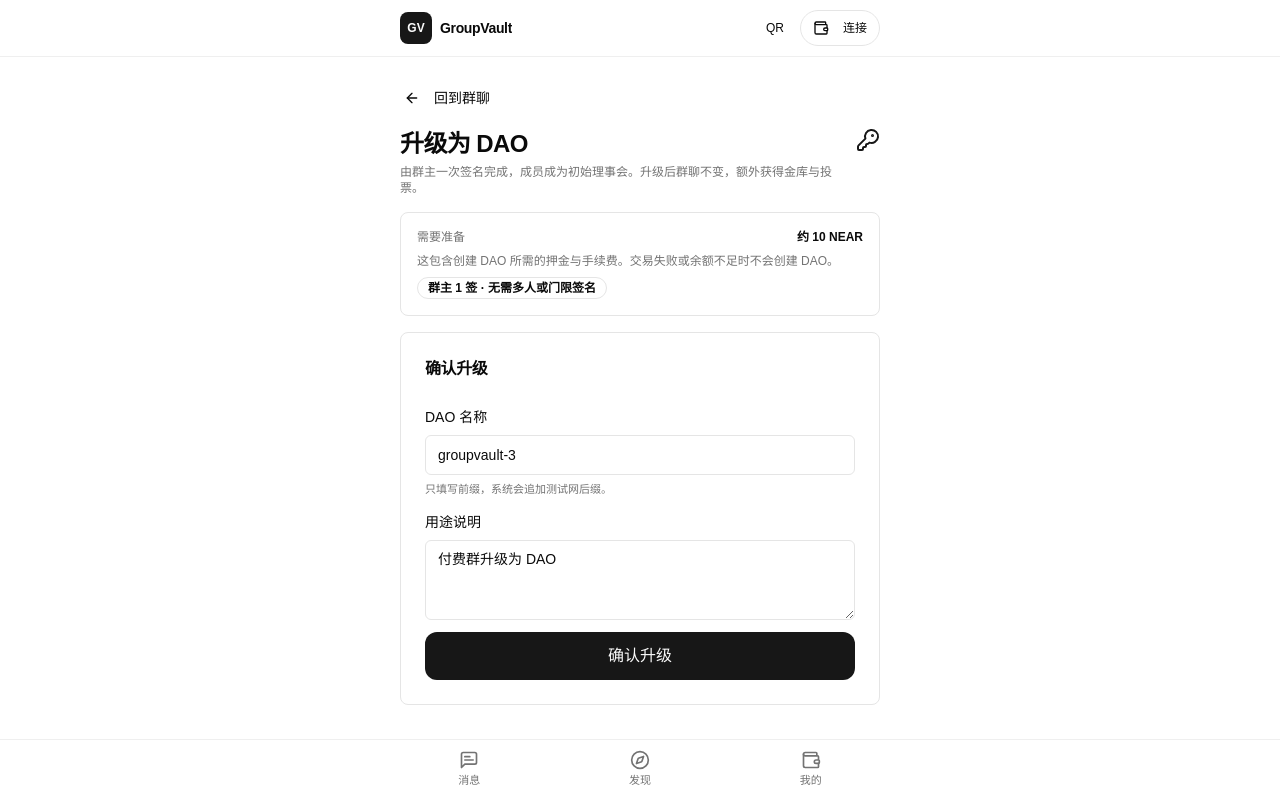
it: Convert screen › rejects invalid DAO names before the wallet
The image size is (1280, 800).
Replace the text in the field labelled "DAO 名称" with "Bad.Name" at [640, 455], box [425,435,855,475]
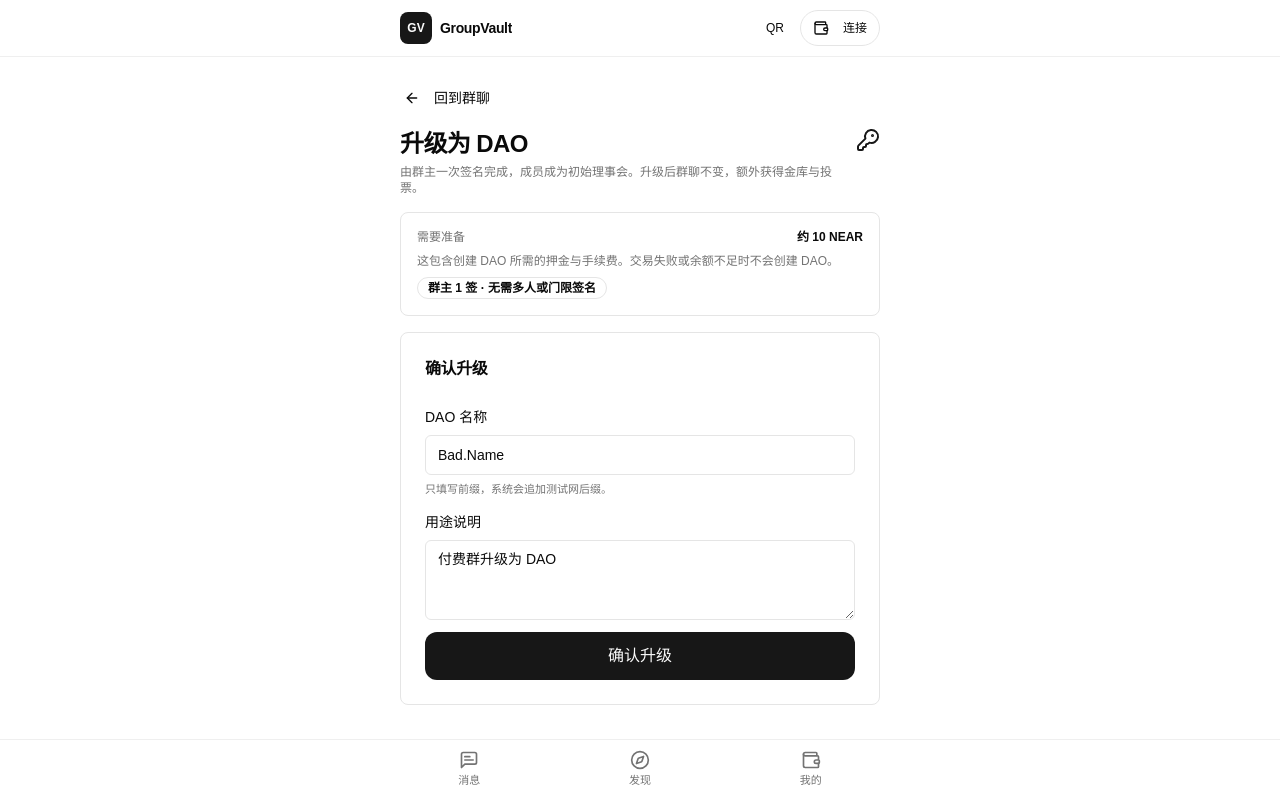
Click the button "确认升级" at [640, 656], box [425,632,855,680]
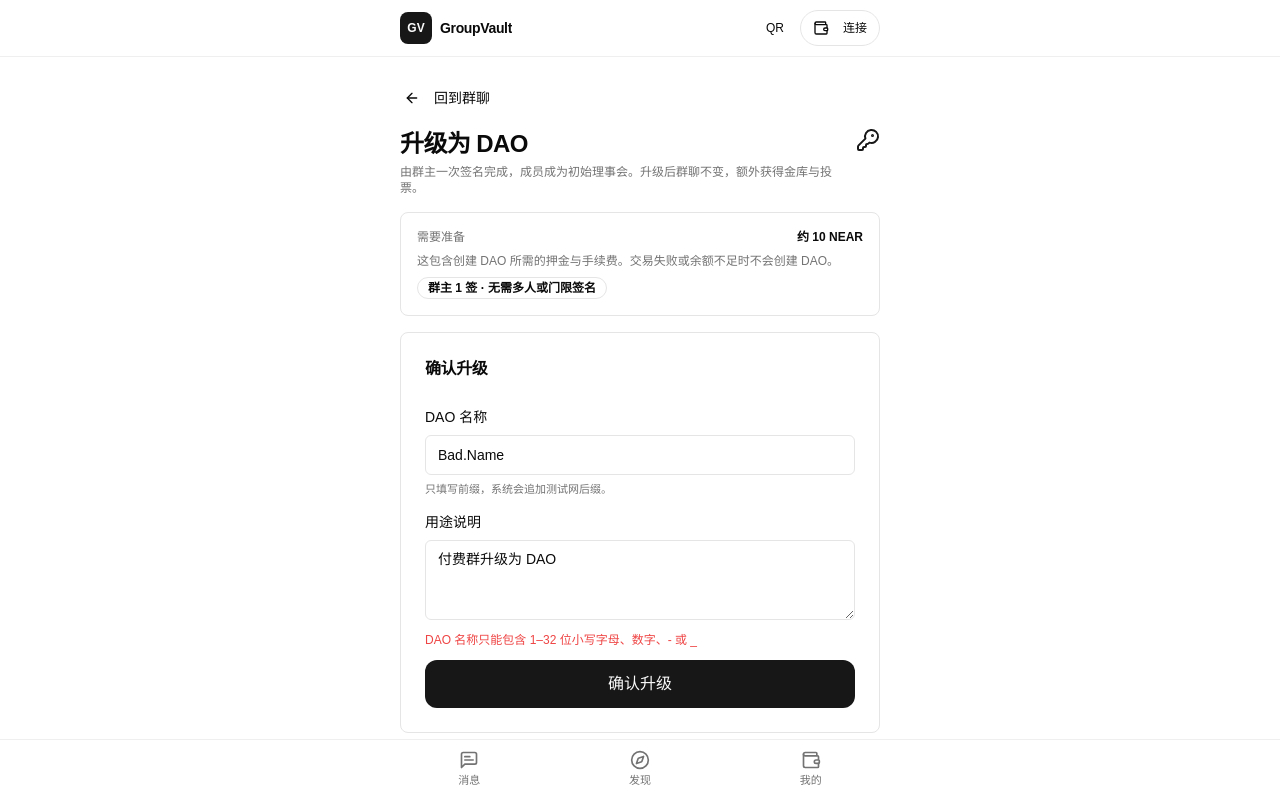
Expected: the text "DAO 名称只能包含 1–32 位小写字母、数字、- 或 _" is shown, [425,632,697,646]
